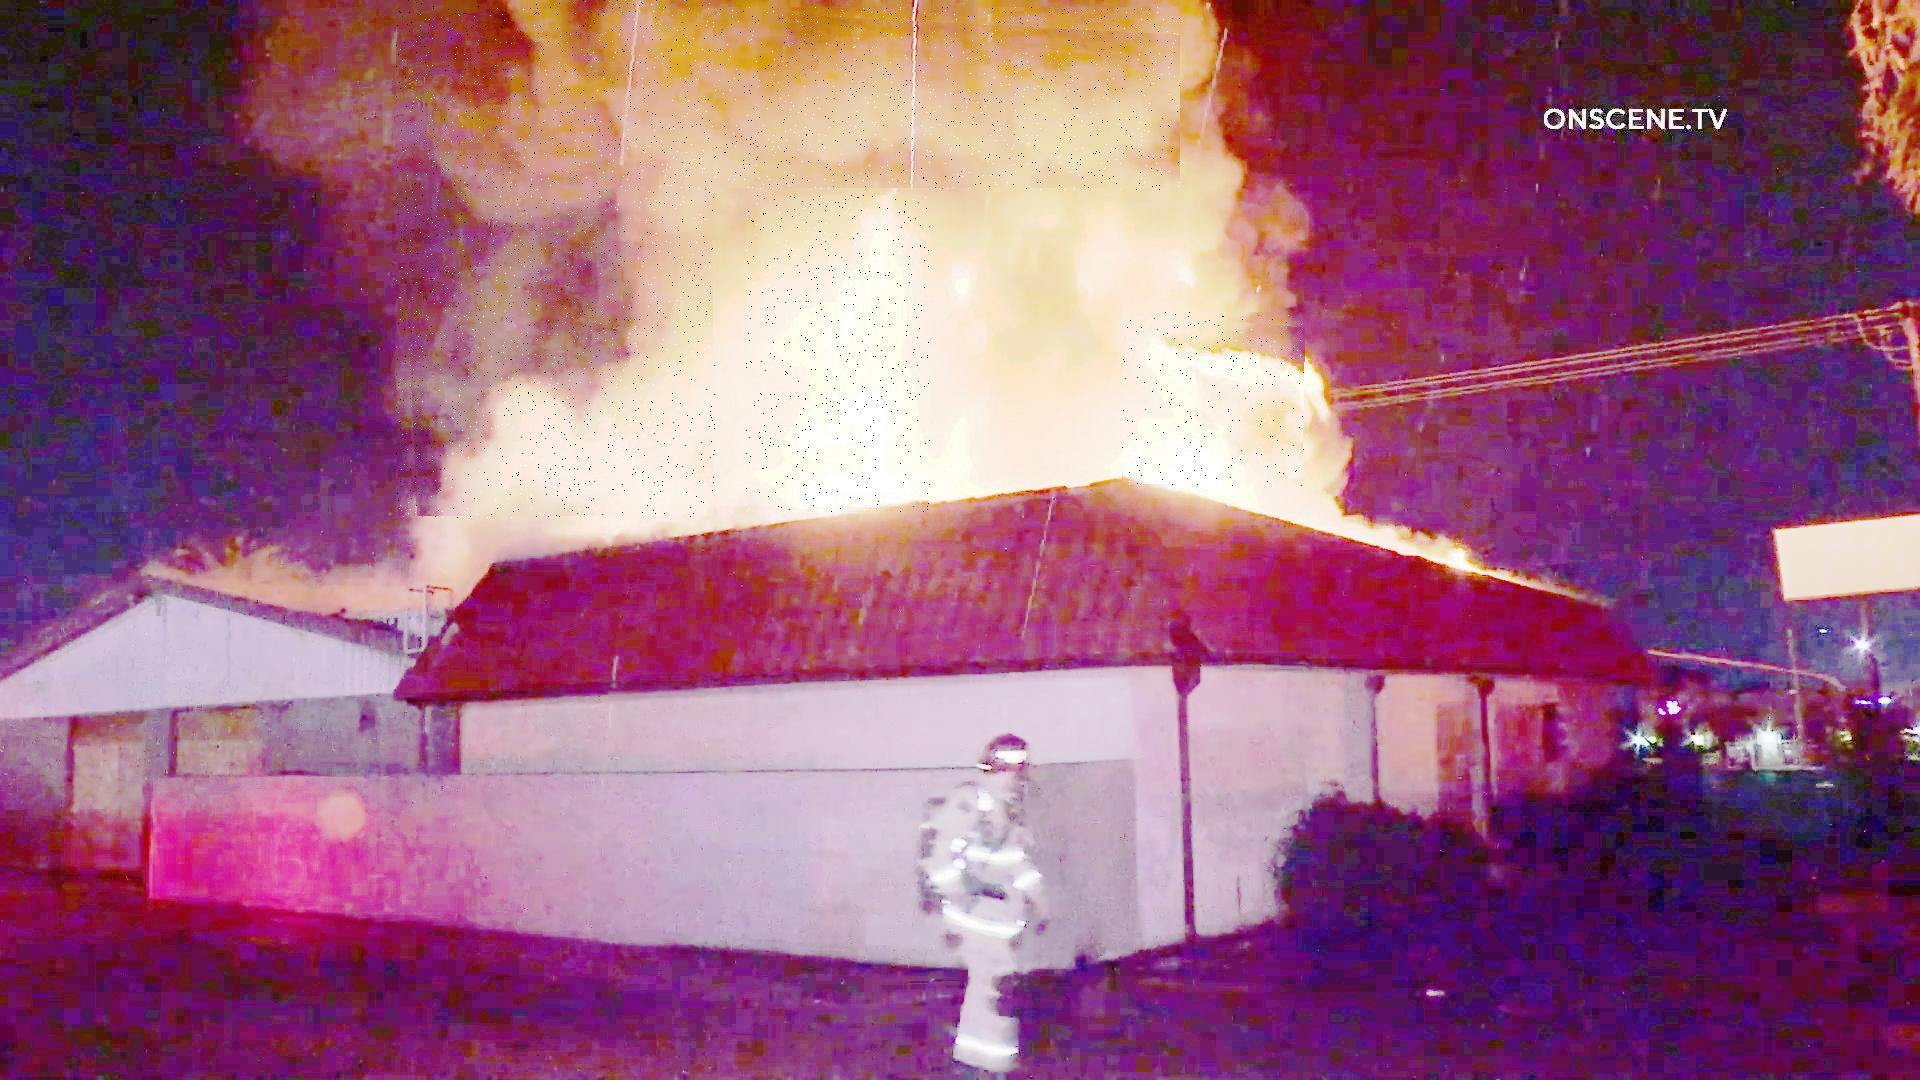fire: (746, 195, 931, 513), (1124, 313, 1308, 487)
smoke: (397, 0, 716, 518), (605, 8, 1180, 191)
